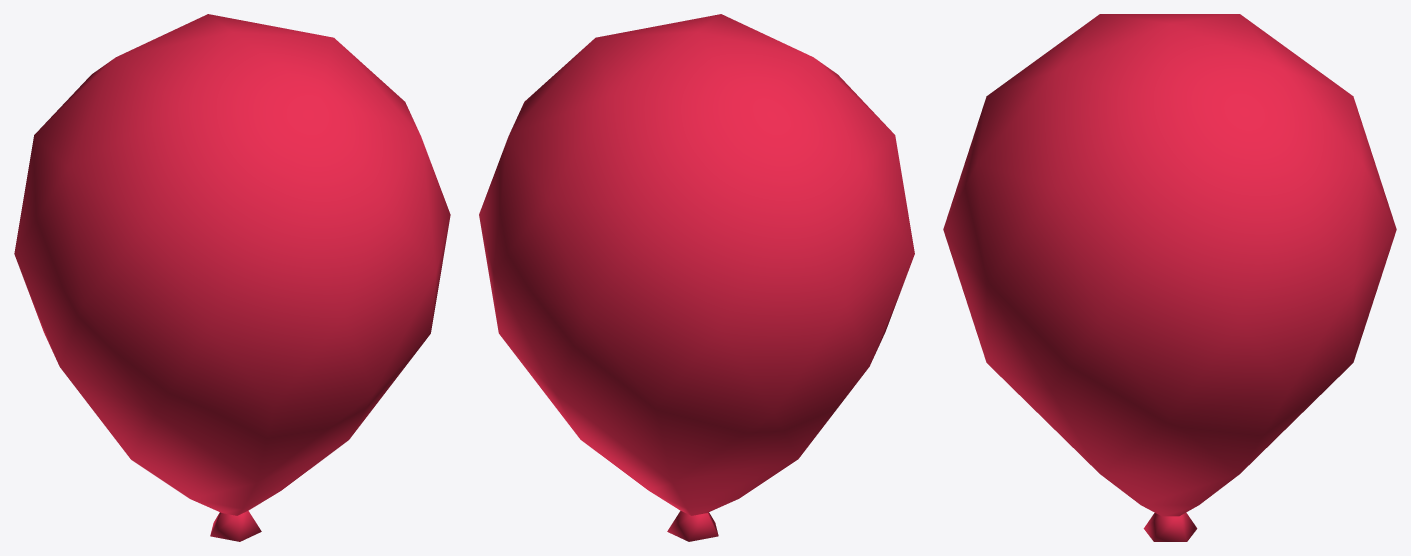
Rendered from balloon.fbx.
3 renders of one model, left to right at view 1: azimuth 30°, elevation 25°; view 2: azimuth 150°, elevation 25°; view 3: azimuth 270°, elevation 25°, orthographic.
Visible parts, largest first — view 1: Balloon; view 2: Balloon; view 3: Balloon.
Part boxes in pixels (x1,y1,x2,y2): Balloon: (14, 14, 450, 541); Balloon: (479, 14, 914, 541); Balloon: (943, 14, 1396, 541).
Bounding box in the file's own units: 46.09 × 48.46 × 59.8.
